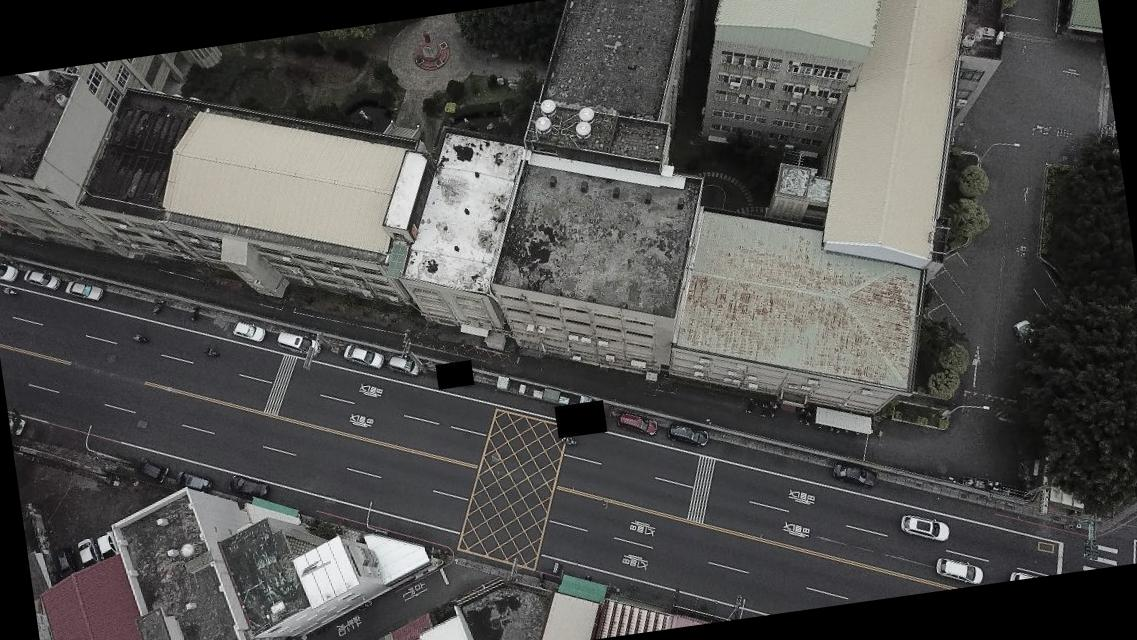vehicle: (900, 508, 953, 548), (931, 552, 985, 590), (829, 456, 879, 492), (275, 327, 323, 362), (225, 470, 272, 505), (666, 418, 712, 452), (340, 341, 384, 374), (616, 408, 662, 439), (173, 466, 212, 498), (133, 456, 171, 488), (63, 276, 105, 304), (386, 352, 424, 382), (22, 266, 62, 294), (231, 319, 268, 346), (54, 546, 79, 580), (97, 529, 121, 561), (78, 535, 100, 569), (0, 257, 22, 285)
